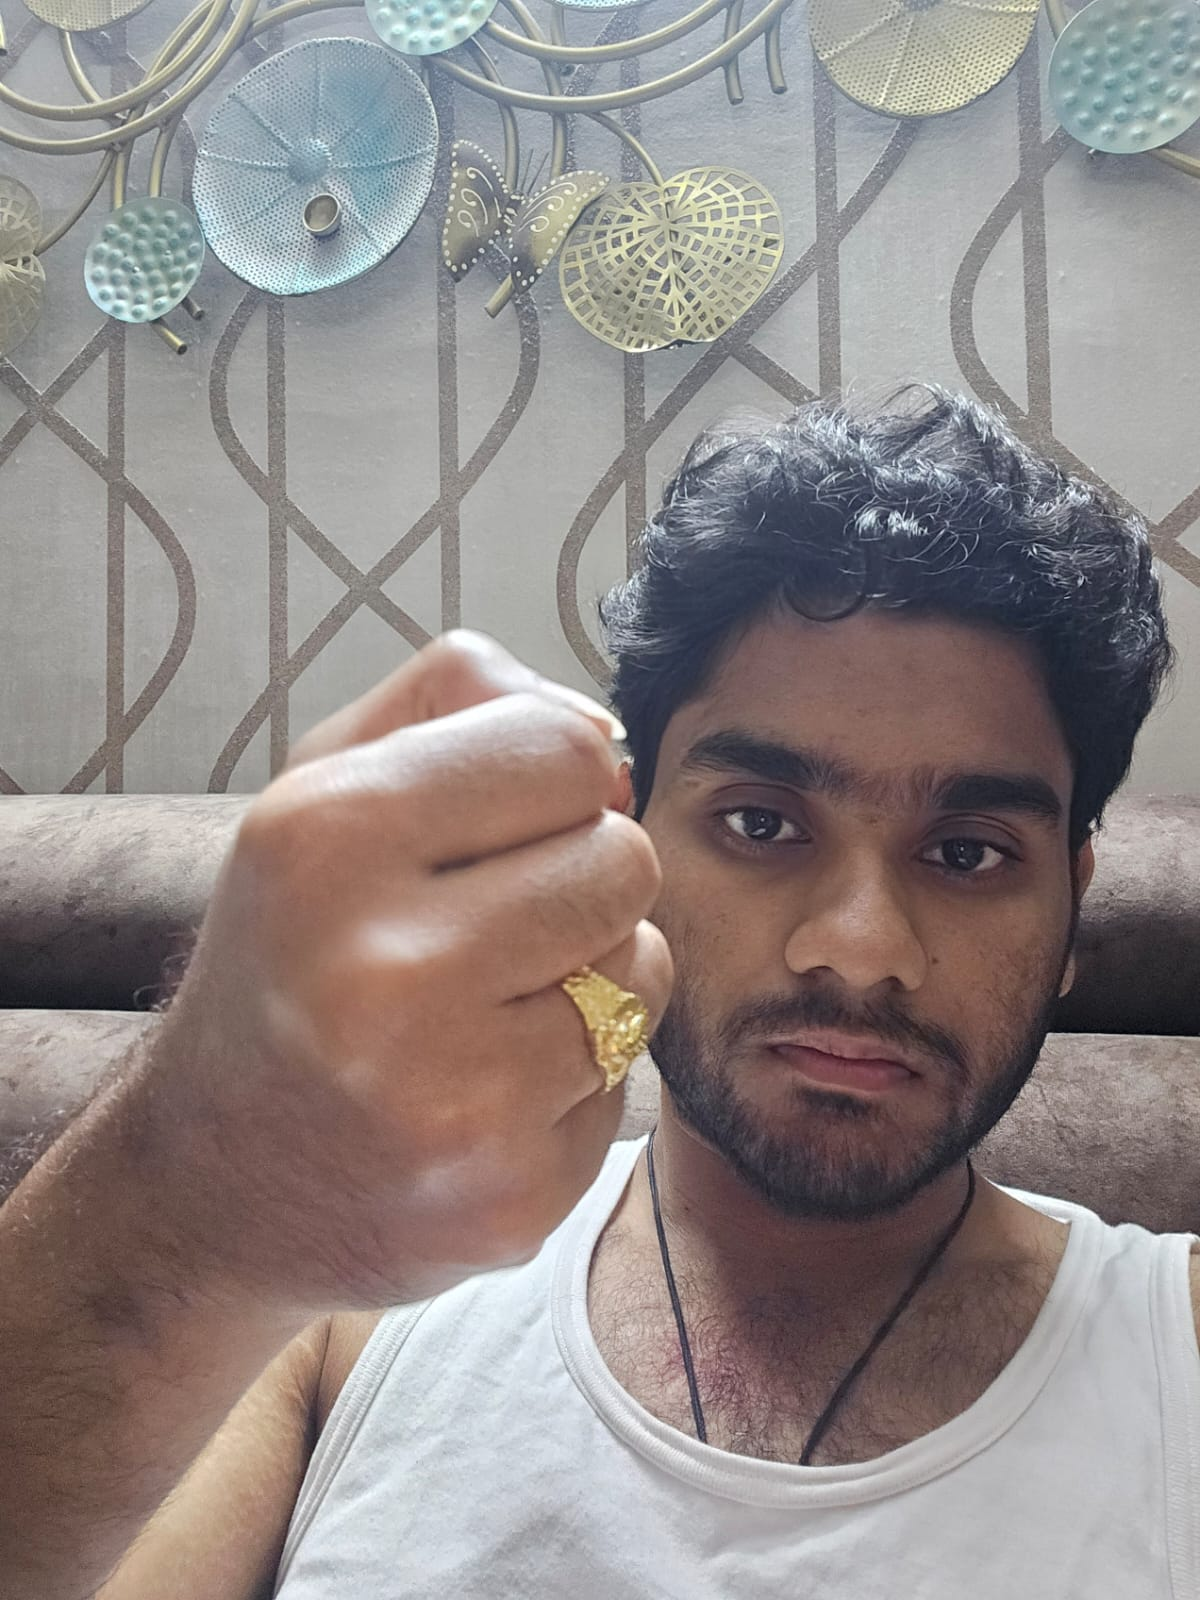yes: (154, 625, 671, 1311)
